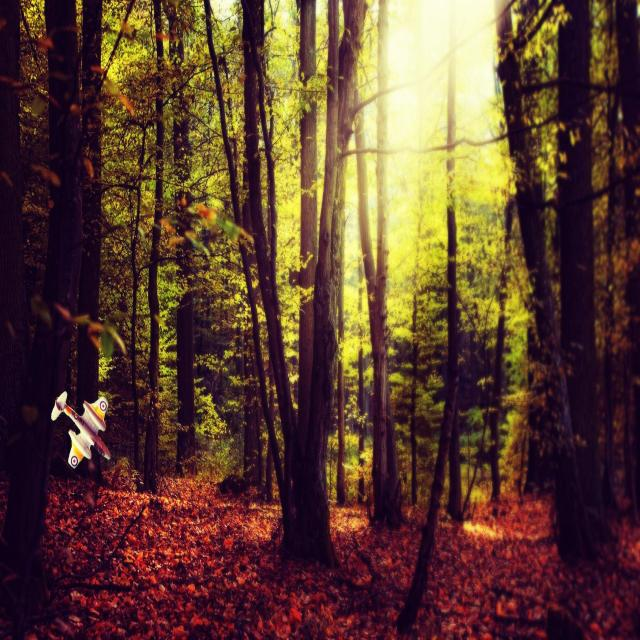airplane: (51, 390, 111, 469)
